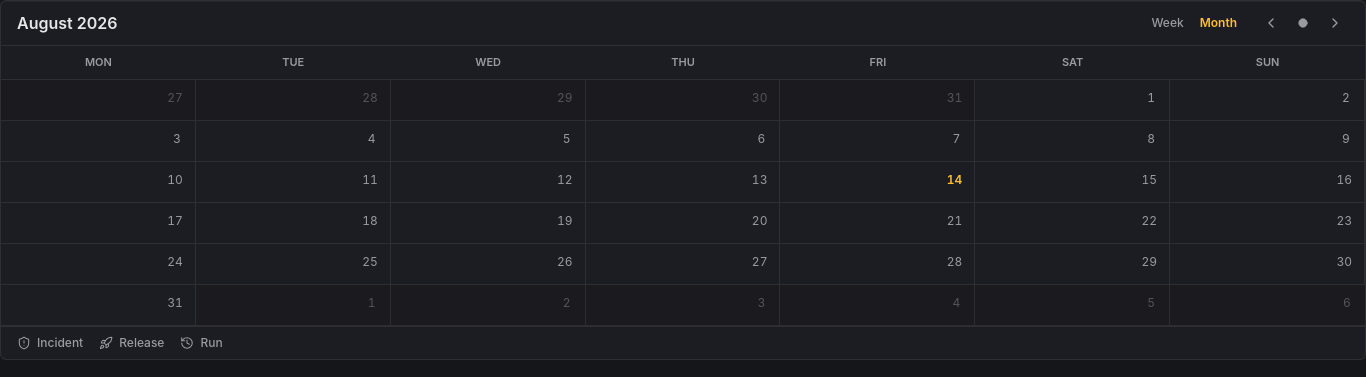
it: OperationsCalendar › moves between months and returns to today
The width and height of the screenshot is (1366, 377).
Expected: the button named "Today" is shown, [1289,9,1317,37]
Click the button named "Previous month".
click(1271, 23)  # box [1257,9,1285,37]
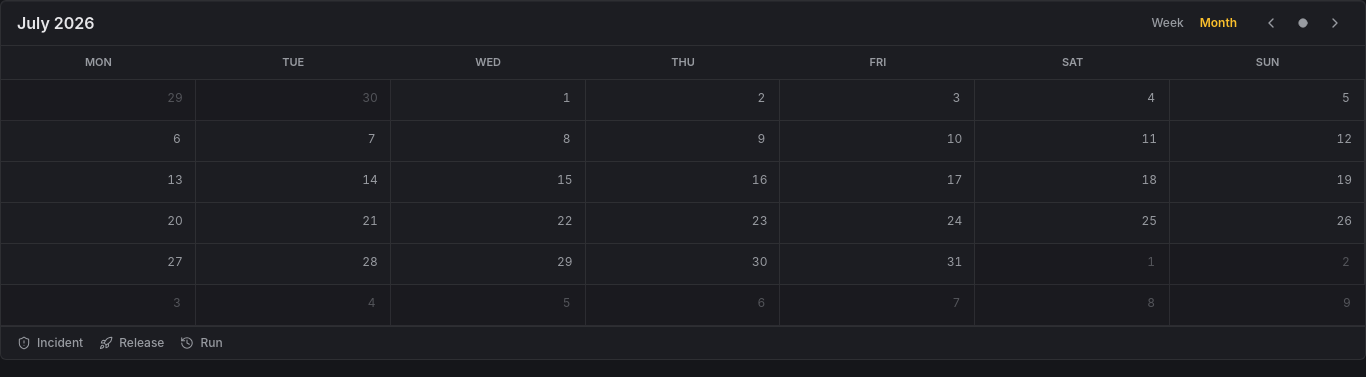
Expected: the heading "July 2026" is shown, [17,13,95,33]
Click the button named "Today".
click(1303, 23)  # box [1289,9,1317,37]
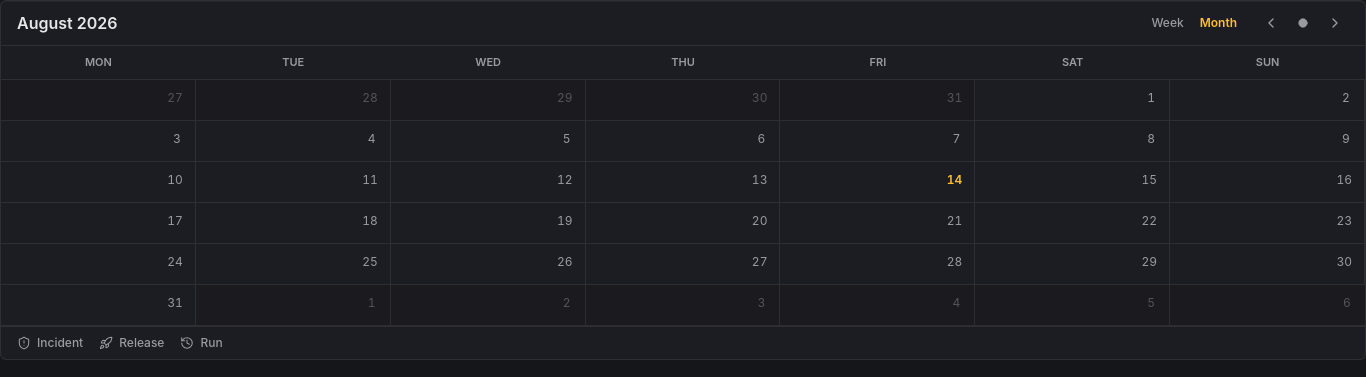
Expected: the heading "August 2026" is shown, [17,13,117,33]
